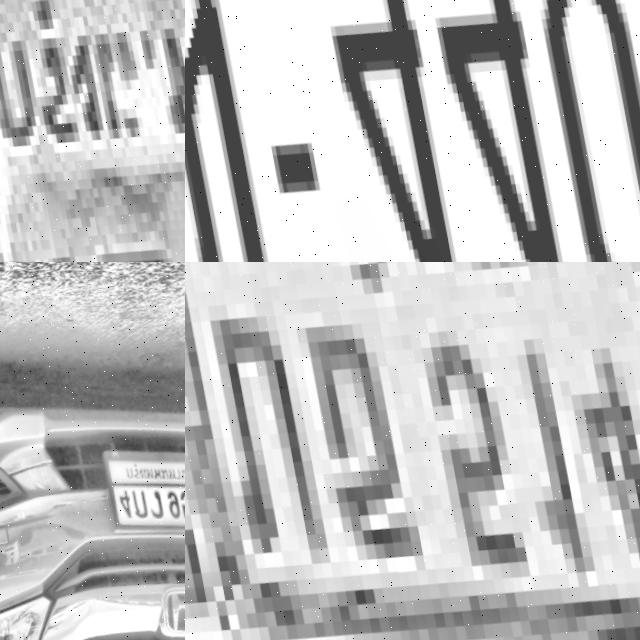license-plate: (185, 262, 640, 640), (185, 0, 640, 262), (0, 0, 185, 262), (92, 419, 185, 546)
